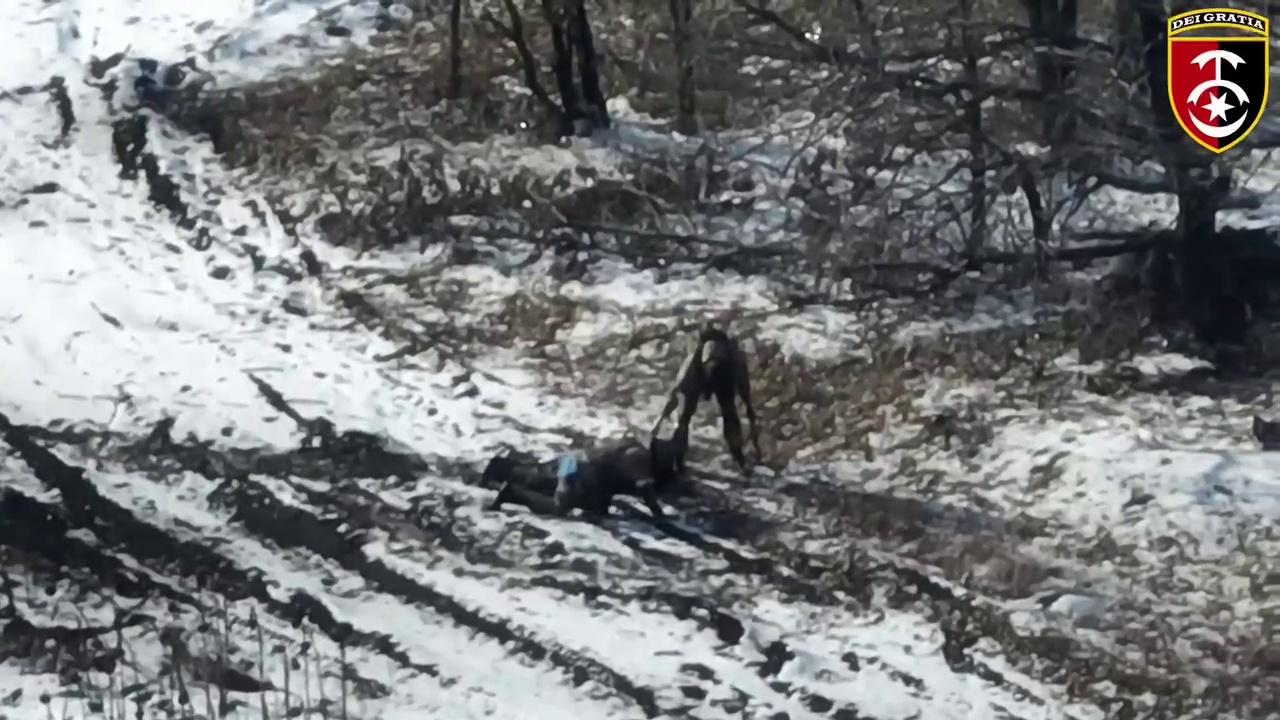person: (474, 439, 686, 528), (652, 324, 754, 480)
